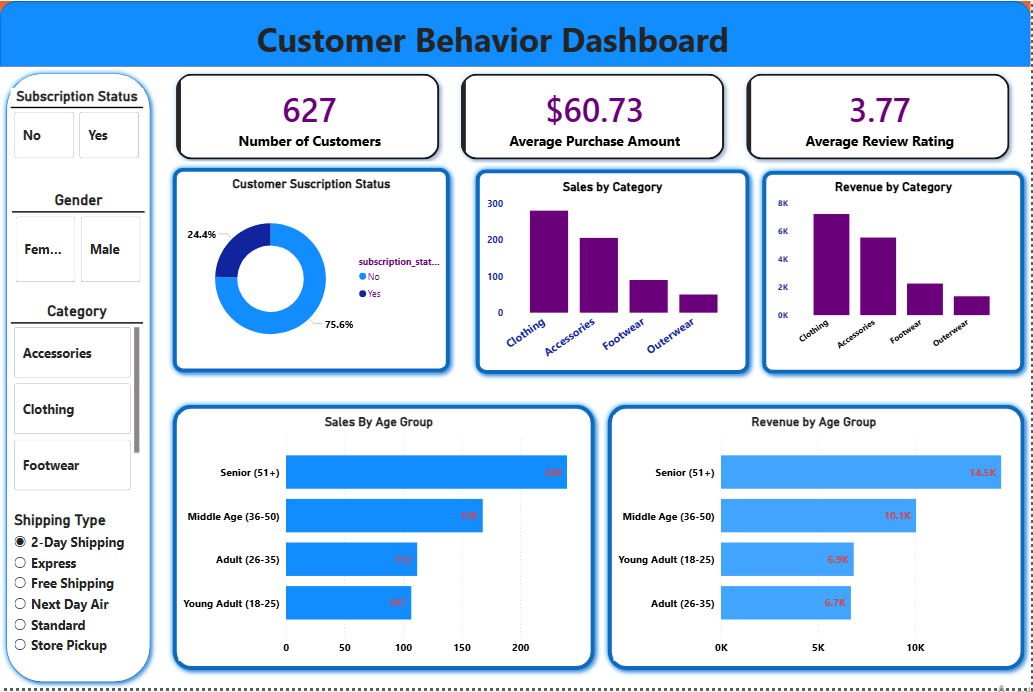

Layout of this report page (visuals, bound fields, positions):
{"tool":"powerbi","page":{"name":"Page 1","canvas":[1500,1000],"ordinal":0},"visuals":[{"type":"shape","box":[875,578.4,625,404.4],"z":500},{"type":"cardVisual","fields":{"Data":["public customer.Number of Customers","public customer.Average Purchase Amount","public customer.Average Review Rating"]},"box":[227.9,76,1272.1,183.8],"z":1000},{"type":"shape","box":[0,0,1500,95.6],"z":2000},{"type":"textbox","box":[0,17,1434.6,96.9],"z":3000},{"type":"shape","box":[242.6,232.8,421.6,316.2],"z":4000},{"type":"donutChart","title":"Customer Suscription Status","fields":{"Y":["CountNonNull(public customer.customer_id)"],"Category":["public customer.subscription_status"]},"box":[259.8,254.9,387.3,277],"z":5000},{"type":"shape","box":[683.8,235.3,416.7,316.2],"z":6000},{"type":"shape","box":[1100.5,237.7,399.5,313.7],"z":7000},{"type":"clusteredColumnChart","title":"Revenue by Category","fields":{"Y":["Sum(public customer.previous_purchases)"],"Category":["public customer.category"]},"box":[1127.5,259.8,348,267.2],"z":8000},{"type":"clusteredColumnChart","title":"Sales by Category","fields":{"Category":["public customer.category"],"Y":["CountNonNull(public customer.customer_id)"]},"box":[703.4,259.8,377.5,274.5],"z":9000},{"type":"shape","box":[0,95.6,227.9,904.4],"z":10000},{"type":"advancedSlicerVisual","fields":{"Values":["public customer.subscription_status"]},"box":[14.7,127.5,193.6,107.8],"z":11000},{"type":"advancedSlicerVisual","fields":{"Values":["public customer.category"]},"box":[14.7,438.7,193.6,279.4],"z":12000},{"type":"listSlicer","fields":{"Values":["public customer.shipping_type"]},"box":[14.7,742.6,193.6,218.1],"z":13000},{"type":"clusteredBarChart","title":"Revenue by Age Group","fields":{"Y":["Sum(public customer.purchase_amount_usd)"],"Category":["public customer.age_group"]},"box":[892.2,602.9,583.3,357.8],"z":14000},{"type":"shape","box":[242.6,578.4,632.4,404.4],"z":15000},{"type":"clusteredBarChart","title":"Sales By Age Group","fields":{"Category":["public customer.age_group"],"Y":["CountNonNull(public customer.customer_id)"]},"box":[259.8,602.9,583.3,357.8],"z":16000},{"type":"advancedSlicerVisual","fields":{"Values":["public customer.gender"]},"box":[17.2,277,193.6,137.3],"z":17000}]}

Visuals, with their boxes in screenshot pixels (x1, y1, x2, y2), scaled from the page's 1500x1000 canvas onto the 1033x692 screenshot:
shape: 603:400:1032:680
cardVisual - public customer.Number of Customers x public customer.Average Purchase Amount: 157:53:1032:180
shape: 0:0:1032:66
textbox: 0:12:988:79
shape: 167:161:457:380
"Customer Suscription Status" donutChart: 179:176:446:368
shape: 471:163:758:382
shape: 758:164:1032:382
"Revenue by Category" clusteredColumnChart: 776:180:1016:365
"Sales by Category" clusteredColumnChart: 484:180:744:370
shape: 0:66:157:691
advancedSlicerVisual - public customer.subscription_status: 10:88:143:163
advancedSlicerVisual - public customer.category: 10:304:143:497
listSlicer - public customer.shipping_type: 10:514:143:665
"Revenue by Age Group" clusteredBarChart: 614:417:1016:665
shape: 167:400:603:680
"Sales By Age Group" clusteredBarChart: 179:417:581:665
advancedSlicerVisual - public customer.gender: 12:192:145:287
